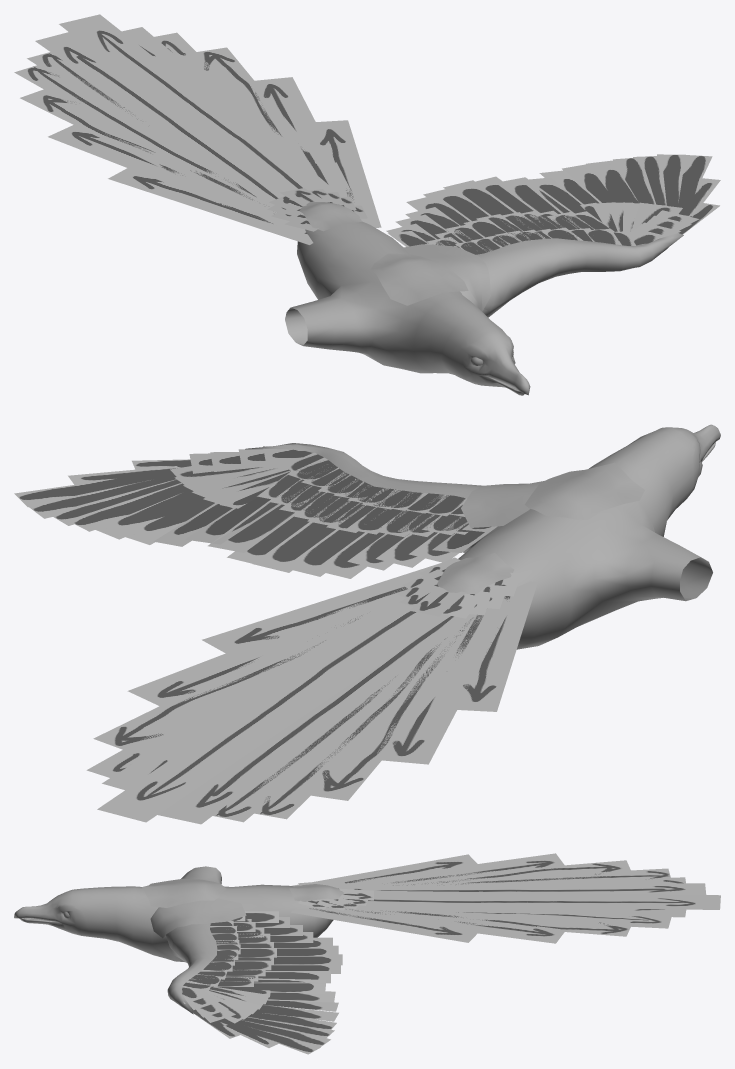
The model's file is magpie.fbx.
3 views of the same model, one above another, from view 1: azimuth 30°, elevation 25°; view 2: azimuth 150°, elevation 25°; view 3: azimuth 270°, elevation 25° (orthographic). The views are drawn at different scales.
Visible parts, largest first — view 1: body_GEO, pPlane21, lesser_coverts, pPlane27, pPlane29, pPlane30, pPlane24, pPlane25, pPlane22, back_feather_patch, pPlane26, pPlane31 (+18 smaller); view 2: body_GEO, pPlane21, pPlane27, pPlane30, pPlane29, pPlane31, pPlane24, pPlane22, pPlane32, pPlane28, pPlane26, pPlane25 (+33 smaller); view 3: body_GEO, pPlane21, pPlane27, pPlane30, pPlane24, pPlane23, lesser_coverts, pPlane29, pPlane22, pPlane31, shoulder_feathers, pPlane26 (+27 smaller).
Boxes of the visible parts, x1=… form: body_GEO: x1=285, y1=221, x2=530, y2=395; pPlane21: x1=59, y1=14, x2=319, y2=198; lesser_coverts: x1=476, y1=233, x2=683, y2=311; pPlane27: x1=35, y1=32, x2=278, y2=206; pPlane29: x1=14, y1=61, x2=277, y2=215; pPlane30: x1=20, y1=86, x2=295, y2=230; pPlane24: x1=184, y1=47, x2=351, y2=198; pPlane25: x1=248, y1=77, x2=365, y2=219; pPlane22: x1=122, y1=27, x2=336, y2=192; back_feather_patch: x1=370, y1=253, x2=468, y2=305; pPlane26: x1=303, y1=120, x2=381, y2=227; pPlane31: x1=48, y1=123, x2=305, y2=234; body_GEO: x1=458, y1=424, x2=720, y2=649; pPlane21: x1=97, y1=603, x2=450, y2=822; pPlane27: x1=158, y1=614, x2=475, y2=824; pPlane30: x1=305, y1=599, x2=514, y2=800; pPlane29: x1=243, y1=611, x2=489, y2=819; pPlane31: x1=374, y1=595, x2=516, y2=764; pPlane24: x1=93, y1=587, x2=408, y2=753; pPlane22: x1=102, y1=595, x2=405, y2=789; pPlane32: x1=441, y1=581, x2=537, y2=711; pPlane28: x1=213, y1=619, x2=478, y2=822; pPlane26: x1=202, y1=562, x2=443, y2=653; pPlane25: x1=127, y1=600, x2=372, y2=708; body_GEO: x1=14, y1=866, x2=333, y2=962; pPlane21: x1=359, y1=890, x2=720, y2=909; pPlane27: x1=366, y1=883, x2=706, y2=894; pPlane30: x1=345, y1=860, x2=630, y2=885; pPlane24: x1=325, y1=907, x2=630, y2=936; pPlane23: x1=341, y1=907, x2=671, y2=928; lesser_coverts: x1=166, y1=923, x2=217, y2=1014; pPlane29: x1=358, y1=868, x2=670, y2=885; pPlane22: x1=356, y1=905, x2=686, y2=917; pPlane31: x1=344, y1=853, x2=565, y2=885; shoulder_feathers: x1=150, y1=898, x2=246, y2=938; pPlane26: x1=291, y1=907, x2=480, y2=942.
Bounding box in the file's own units: 8.96 × 1.69 × 14.49.
Materials: 3 (2 with a texture image).
